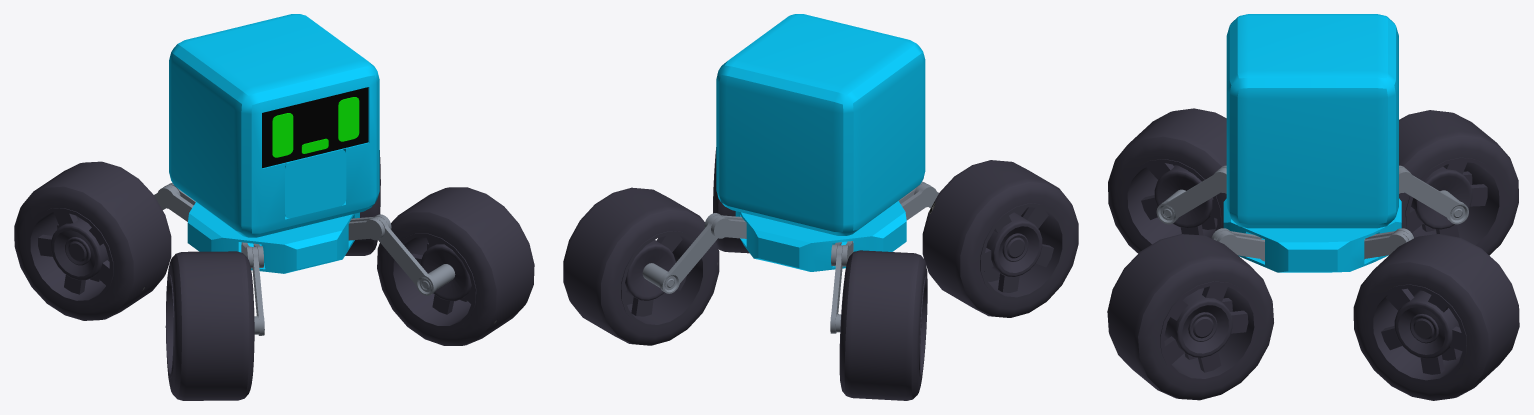
Rendered from Tank2.fbx.
3 views of the same model, side by side, from view 1: azimuth 30°, elevation 25°; view 2: azimuth 150°, elevation 25°; view 3: azimuth 270°, elevation 25° (orthographic). The views are drawn at different scales.
Visible parts, largest first — view 1: face6; view 2: face6; view 3: face6.
Part boxes in pixels (bbox=[...]): face6: bbox=[14, 14, 534, 400]; face6: bbox=[563, 14, 1078, 400]; face6: bbox=[1107, 14, 1519, 400].
Size of the model in its own units: 72.47 by 52.76 by 69.72.
